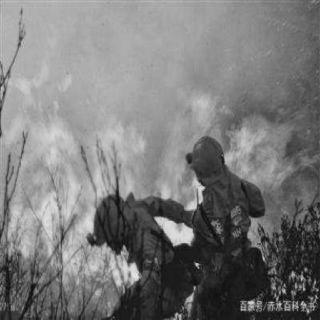Fire: (10, 61, 314, 318)
